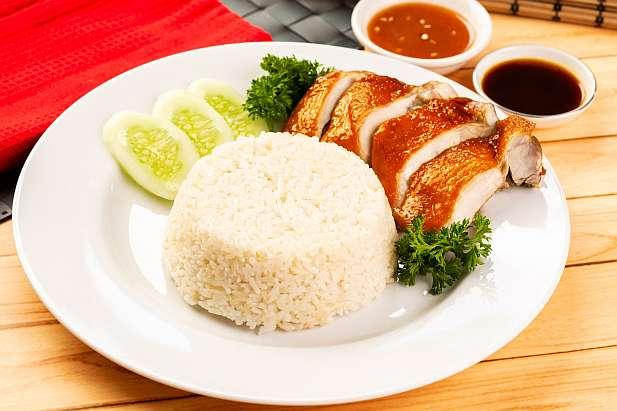buah_sayur_lainnya: (114, 118, 182, 172), (189, 95, 245, 134), (417, 240, 465, 275), (267, 65, 295, 106)
buah_sayur_vitA: (392, 5, 447, 46)
daging: (363, 105, 481, 143)
makanan_berpati: (220, 159, 341, 292)
